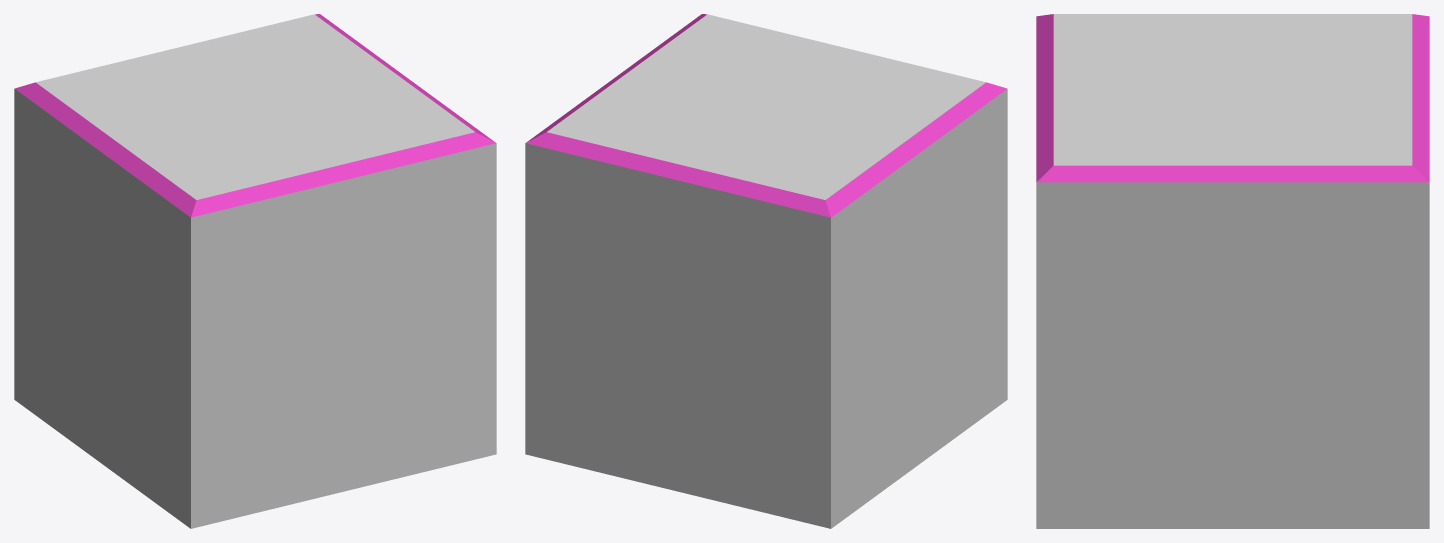
Rendered from Floor.fbx.
The picture shows the model from 3 angles, left to right: view 1: azimuth 30°, elevation 25°; view 2: azimuth 150°, elevation 25°; view 3: azimuth 270°, elevation 25°; orthographic projection. The views are drawn at different scales.
Visible parts, largest first — view 1: Cube; view 2: Cube; view 3: Cube.
Part boxes in pixels (<box>): Cube: <box>14,14,496,528</box>; Cube: <box>525,14,1007,528</box>; Cube: <box>1036,14,1429,528</box>.
Size of the model in its own units: 1 by 0.9999 by 1.
